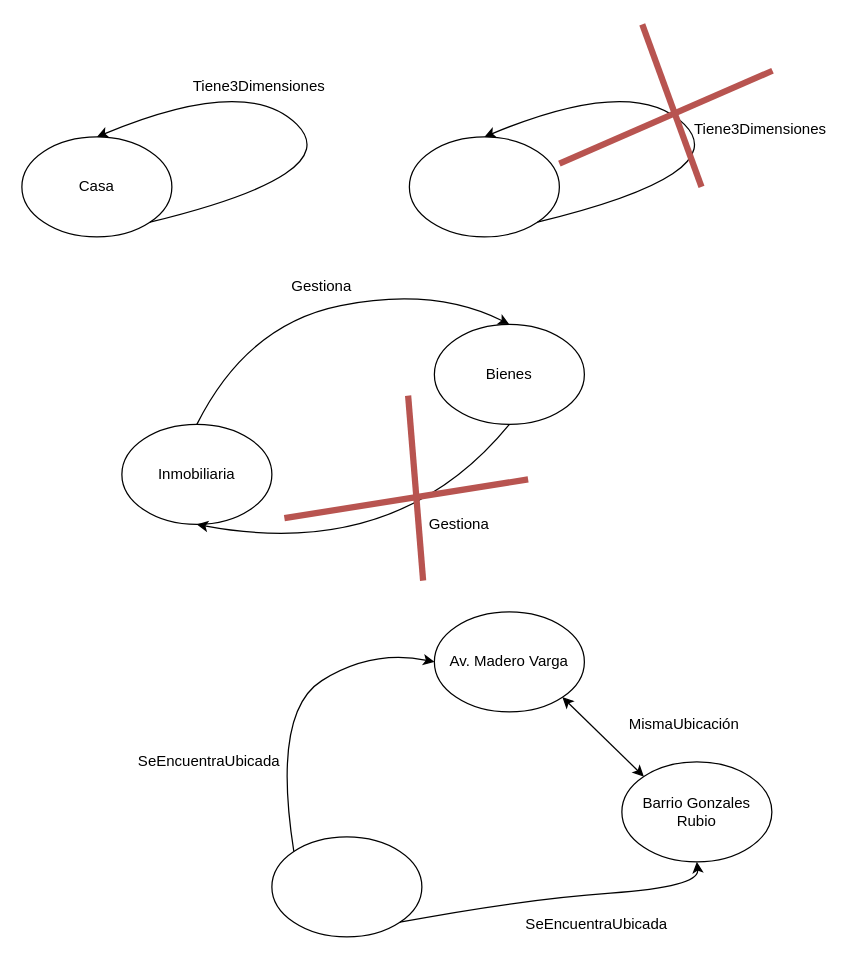
The diagram is 849 pixels wide and 959 high, and some of its shapes have lost their labels. Each missing label, with the box of its shape:
Casa Modelo 001: (271, 836, 422, 937)
Lote: (408, 136, 559, 237)
